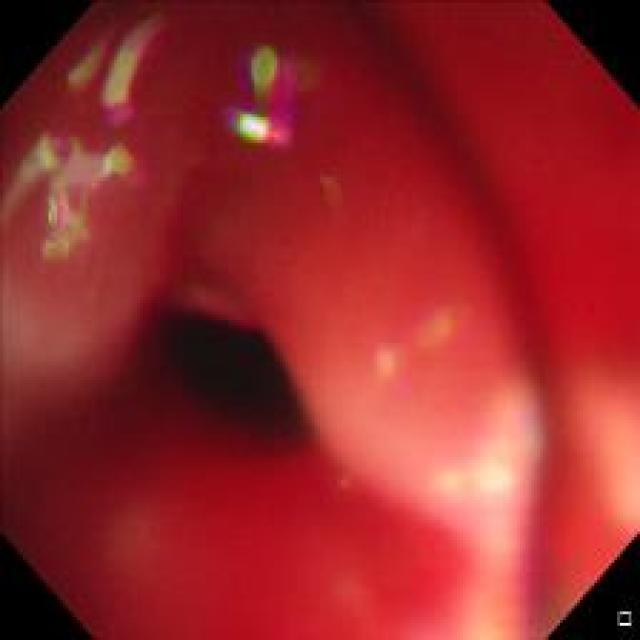blur: (34, 42, 591, 596)
color misalignment: (4, 0, 636, 632), (1, 126, 155, 278), (221, 40, 319, 162), (68, 18, 171, 126), (364, 319, 456, 392), (310, 161, 348, 210)
contrast: (89, 295, 355, 494)
